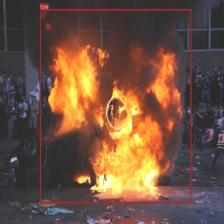fire: (40, 9, 191, 203)
